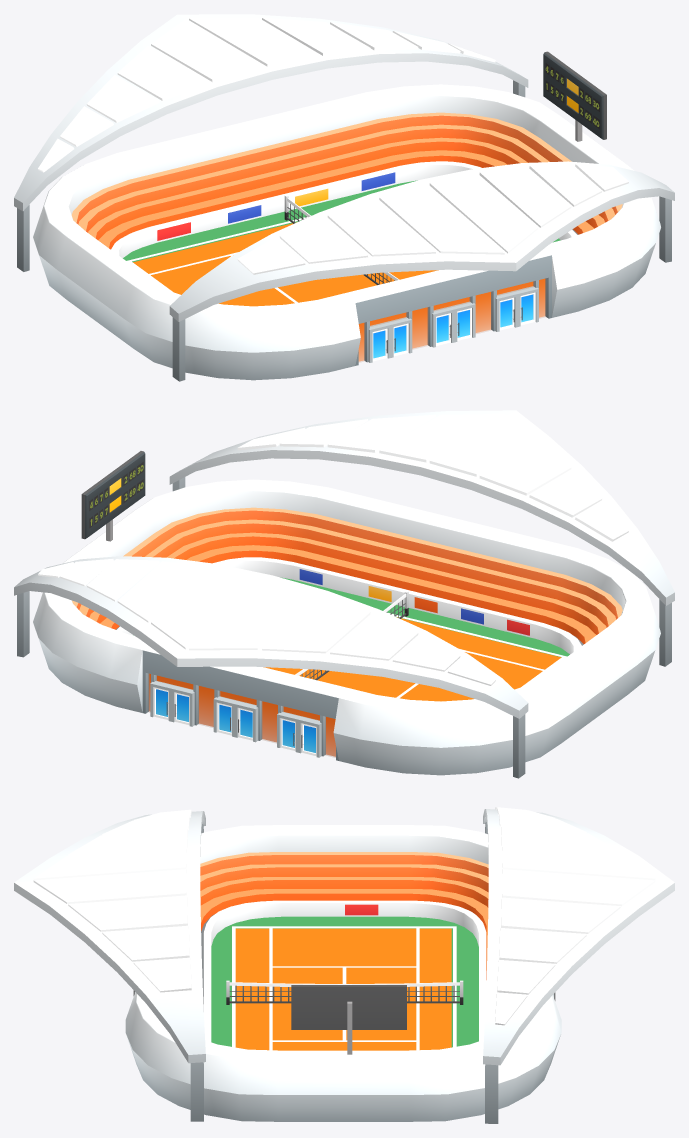
Rendered from Stadium_03.glb.
3 views of the same model, one above another, from view 1: azimuth 30°, elevation 25°; view 2: azimuth 150°, elevation 25°; view 3: azimuth 270°, elevation 25° (orthographic). The views are drawn at different scales.
Visible parts, largest first — view 1: Stadium_03; view 2: Stadium_03; view 3: Stadium_03.
Part boxes in pixels (x1,y1,x2,y2): Stadium_03: (14, 14, 674, 381); Stadium_03: (14, 410, 674, 778); Stadium_03: (14, 807, 674, 1123).
Bounding box in the file's own units: 38.92 × 10.2 × 44.58.
3 materials, 3 textured.
